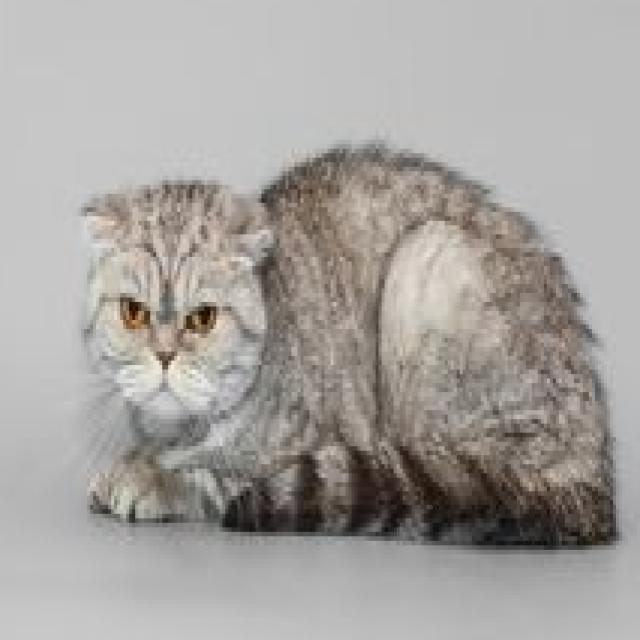Scottish Fold: (74, 137, 622, 559)
